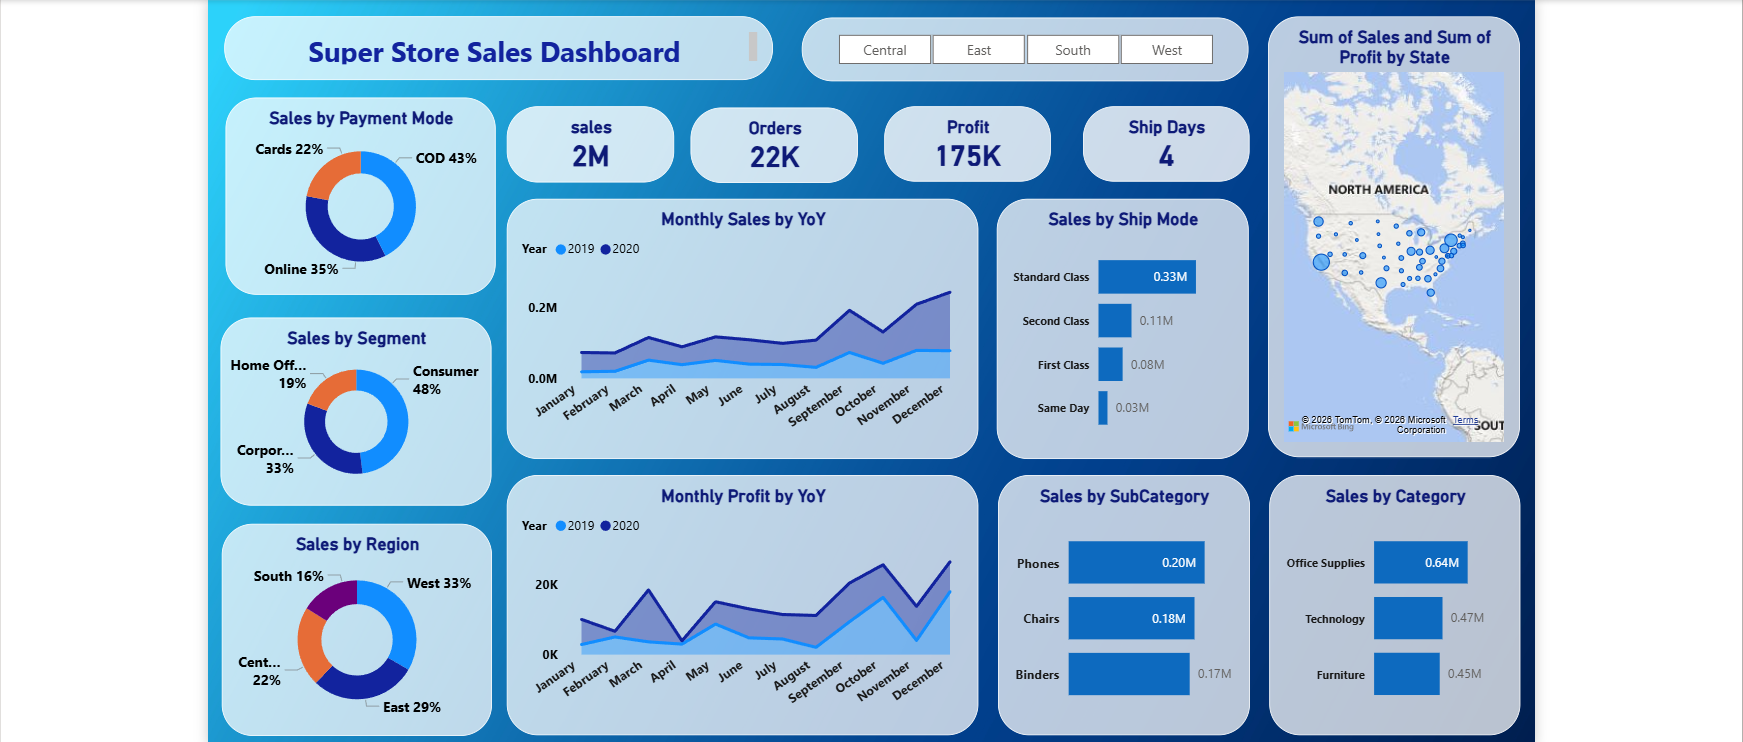

The dashboard page shown, as its layout file describes it:
{"tool":"powerbi","page":{"name":"Page 1","canvas":[1280,720],"ordinal":0},"visuals":[{"type":"clusteredBarChart","title":" Sales by Category","fields":{"Category":["SuperStore_Sales_Dataset (2).Category"],"Y":["Sum(SuperStore_Sales_Dataset (2).Sales)"]},"box":[1024.3,458.4,242.5,250.9],"z":0},{"type":"clusteredBarChart","title":" Sales by SubCategory","fields":{"Category":["SuperStore_Sales_Dataset (2).Sub-Category"],"Y":["Sum(SuperStore_Sales_Dataset (2).Sales)"]},"box":[763,458.3,242.9,251.1],"z":1000},{"type":"clusteredBarChart","title":" Sales by Ship Mode","fields":{"Category":["SuperStore_Sales_Dataset (2).Ship Mode"],"Y":["Sum(SuperStore_Sales_Dataset (2).Sales)"]},"box":[761.6,192.1,242.9,251.1],"z":2000},{"type":"stackedAreaChart","title":"Monthly Sales by YoY","fields":{"Y":["Sum(SuperStore_Sales_Dataset (2).Sales)"],"Category":["SuperStore_Sales_Dataset (2).Order Date.Variation.Date Hierarchy.Month","SuperStore_Sales_Dataset (2).Order Date.Variation.Date Hierarchy.Day"],"Series":["SuperStore_Sales_Dataset (2).Order Date.Variation.Date Hierarchy.Year"]},"box":[289.5,191.8,454.8,250.9],"z":3000},{"type":"map","fields":{"Category":["SuperStore_Sales_Dataset (2).State"],"Size":["Sum(SuperStore_Sales_Dataset (2).Sales)"]},"box":[1023.5,16,243.2,425.9],"z":4000},{"type":"donutChart","title":" Sales by Segment","fields":{"Category":["SuperStore_Sales_Dataset (2).Segment"],"Y":["Sum(SuperStore_Sales_Dataset (2).Sales)"]},"box":[12.3,306.2,261.7,181.5],"z":5000},{"type":"donutChart","title":" Sales by Payment Mode","fields":{"Category":["SuperStore_Sales_Dataset (2).Payment Mode"],"Y":["Sum(SuperStore_Sales_Dataset (2).Sales)"]},"box":[16.5,94.7,260.7,190.7],"z":6000},{"type":"slicer","fields":{"Values":["SuperStore_Sales_Dataset (2).Region"]},"box":[573.6,16.5,430.9,61.7],"z":7000},{"type":"textbox","box":[16,16,529.6,61.7],"z":8000},{"type":"card","title":"sales","fields":{"Values":["Sum(SuperStore_Sales_Dataset (2).Sales)"]},"box":[288.3,102.5,161.7,73.6],"z":9000},{"type":"card","title":"Orders","fields":{"Values":["Sum(SuperStore_Sales_Dataset (2).Quantity)"]},"box":[465.2,104.3,161.9,72.7],"z":10000},{"type":"card","title":"Profit","fields":{"Values":["Sum(SuperStore_Sales_Dataset (2).Profit)"]},"box":[653.2,102.9,160.5,72.7],"z":11000},{"type":"card","title":"Ship Days","fields":{"Values":["Avg(SuperStore_Sales_Dataset (2).AVGDelivery)"]},"box":[843.9,102.9,160.5,72.7],"z":12000},{"type":"donutChart","title":" Sales by Region","fields":{"Y":["Sum(SuperStore_Sales_Dataset (2).Sales)"],"Category":["SuperStore_Sales_Dataset (2).Region"]},"box":[13.7,505,260.7,204.5],"z":13000},{"type":"stackedAreaChart","title":"Monthly Profit by YoY","fields":{"Category":["SuperStore_Sales_Dataset (2).Order Date.Variation.Date Hierarchy.Month","SuperStore_Sales_Dataset (2).Order Date.Variation.Date Hierarchy.Day"],"Series":["SuperStore_Sales_Dataset (2).Order Date.Variation.Date Hierarchy.Year"],"Y":["Sum(SuperStore_Sales_Dataset (2).Profit)"]},"box":[289.5,458.4,454.8,250.9],"z":14000}]}

Visuals, with their boxes in screenshot pixels (x1, y1, x2, y2):
" Sales by Category" clusteredBarChart: <bbox>1267, 473, 1522, 736</bbox>
" Sales by SubCategory" clusteredBarChart: <bbox>992, 472, 1247, 736</bbox>
" Sales by Ship Mode" clusteredBarChart: <bbox>991, 193, 1246, 457</bbox>
"Monthly Sales by YoY" stackedAreaChart: <bbox>495, 192, 973, 456</bbox>
map - SuperStore_Sales_Dataset (2).State x Sum(SuperStore_Sales_Dataset (2).Sales): <bbox>1266, 8, 1521, 455</bbox>
" Sales by Segment" donutChart: <bbox>204, 313, 479, 503</bbox>
" Sales by Payment Mode" donutChart: <bbox>208, 90, 482, 291</bbox>
slicer - SuperStore_Sales_Dataset (2).Region: <bbox>793, 8, 1246, 73</bbox>
textbox: <bbox>207, 8, 764, 73</bbox>
"sales" card: <bbox>494, 99, 663, 176</bbox>
"Orders" card: <bbox>679, 101, 849, 177</bbox>
"Profit" card: <bbox>877, 99, 1046, 175</bbox>
"Ship Days" card: <bbox>1077, 99, 1246, 175</bbox>
" Sales by Region" donutChart: <bbox>205, 521, 479, 736</bbox>
"Monthly Profit by YoY" stackedAreaChart: <bbox>495, 473, 973, 736</bbox>
